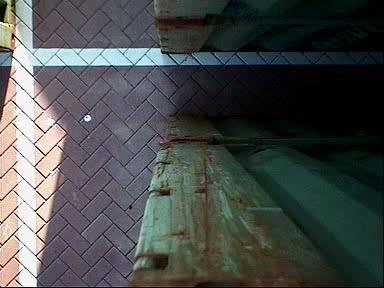groundmarker_2: (242, 35, 306, 68), (242, 2, 306, 34), (236, 175, 300, 207)
